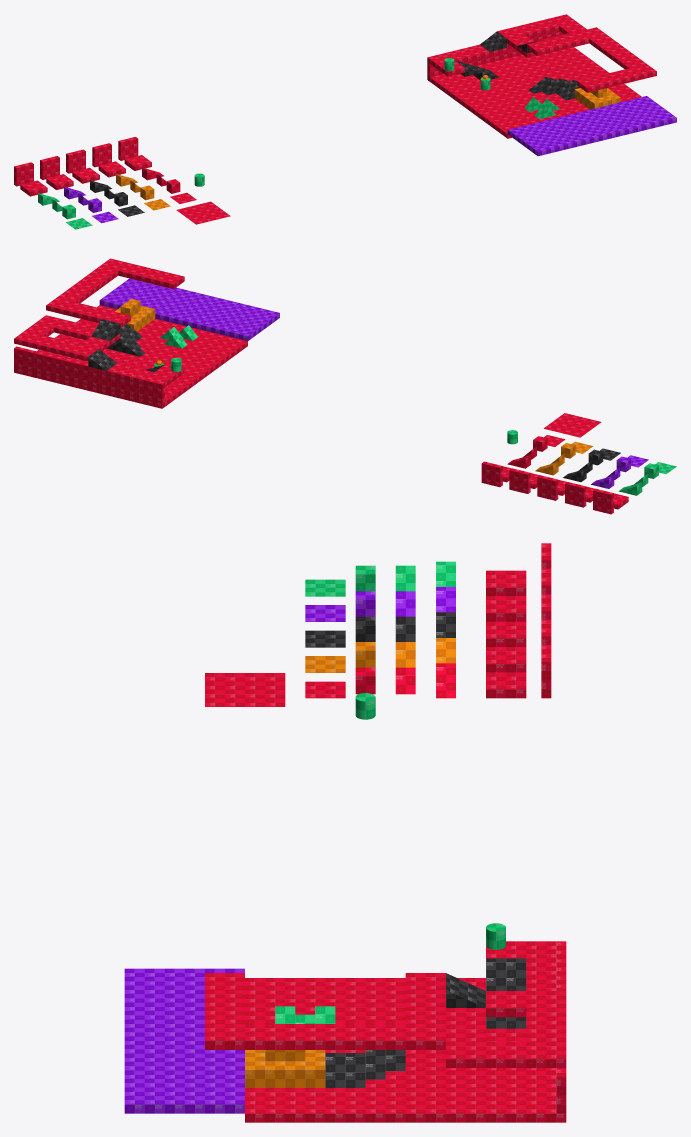
File: greybox.glb
3 views of the same model, one above another, from view 1: azimuth 30°, elevation 25°; view 2: azimuth 150°, elevation 25°; view 3: azimuth 270°, elevation 25° (orthographic). The views are drawn at different scales.
Parts seen in each view (by area): view 1: Plane.001, Box.006, Box.014, Box.022, Box.010, Box.018; view 2: Plane.001, Box.006, Box.018, Box.010, Box.014, Box.022, Box.153, Box.157, Box.158, Box.155, Box.156; view 3: Plane.001, Box.060, Box.005, Box.058, Box.070, Box.072, Box.092, Box.104, Box.171, Box.211, Box.213, Box.102 (+15 smaller).
Boxes of the visible parts, x1,y1,x2,y2 form: Plane.001: (176, 201, 230, 224); Box.006: (118, 137, 138, 160); Box.014: (66, 149, 85, 173); Box.022: (14, 162, 33, 186); Box.010: (92, 143, 111, 167); Box.018: (40, 156, 59, 179); Plane.001: (544, 413, 601, 437); Box.006: (481, 461, 502, 487); Box.018: (565, 482, 586, 507); Box.010: (509, 468, 530, 493); Box.014: (537, 475, 558, 500); Box.022: (593, 488, 613, 514); Box.153: (143, 378, 164, 403); Box.157: (69, 360, 88, 385); Box.158: (51, 355, 71, 381); Box.155: (32, 351, 53, 376); Box.156: (14, 346, 34, 372); Plane.001: (205, 673, 285, 706); Box.060: (325, 1096, 365, 1122); Box.005: (486, 672, 526, 698); Box.058: (365, 1096, 405, 1122); Box.070: (285, 1096, 325, 1122); Box.072: (245, 1096, 285, 1122); Box.092: (486, 1096, 526, 1122); Box.104: (405, 1096, 445, 1122); Box.171: (486, 991, 526, 1017); Box.211: (164, 1087, 204, 1113); Box.213: (124, 1087, 164, 1113); Box.102: (446, 1096, 485, 1122).
Bounding box in the file's own units: 64 × 4.5 × 22.
Materials: 6 (5 with a texture image).
